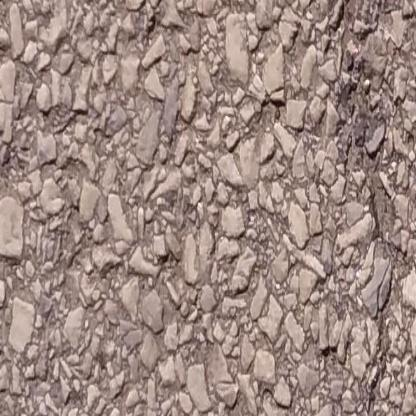Cracks: (337, 0, 403, 416)
